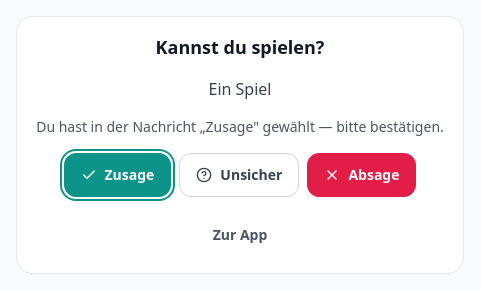
Scenario: ActionPage › erklärt einen geschlossenen Meldeschluss
Click the button "Zusage": point(117, 175) [64,153,171,197]
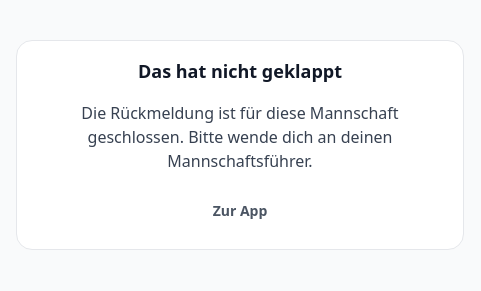
Expected: the text "geschlossen" is shown, [81,102,399,172]
